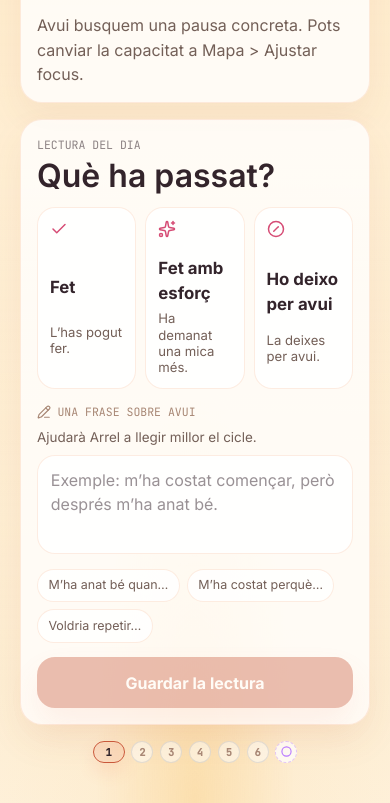
Test case: Today v2 › uses quick note chips as optional writing helpers
(page scrolled)
Step 1. Click the button "M’ha costat perquè…" → (261, 585), box [187, 568, 334, 602]
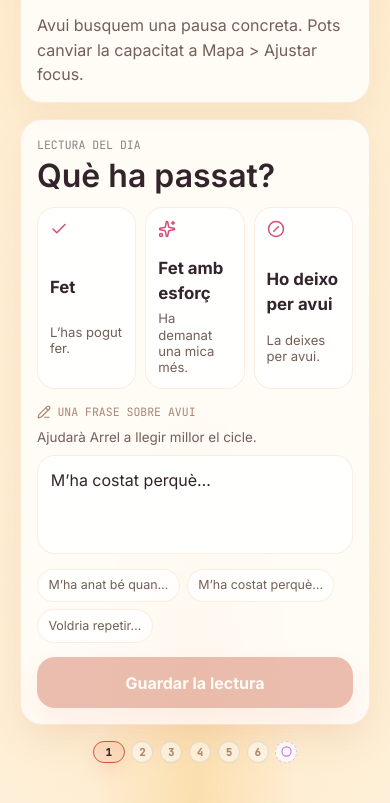
Now the text box with placeholder "Exemple: m’ha costat començar, però després m’ha anat bé." holds "M’ha costat perquè…", box [37, 455, 353, 554]
